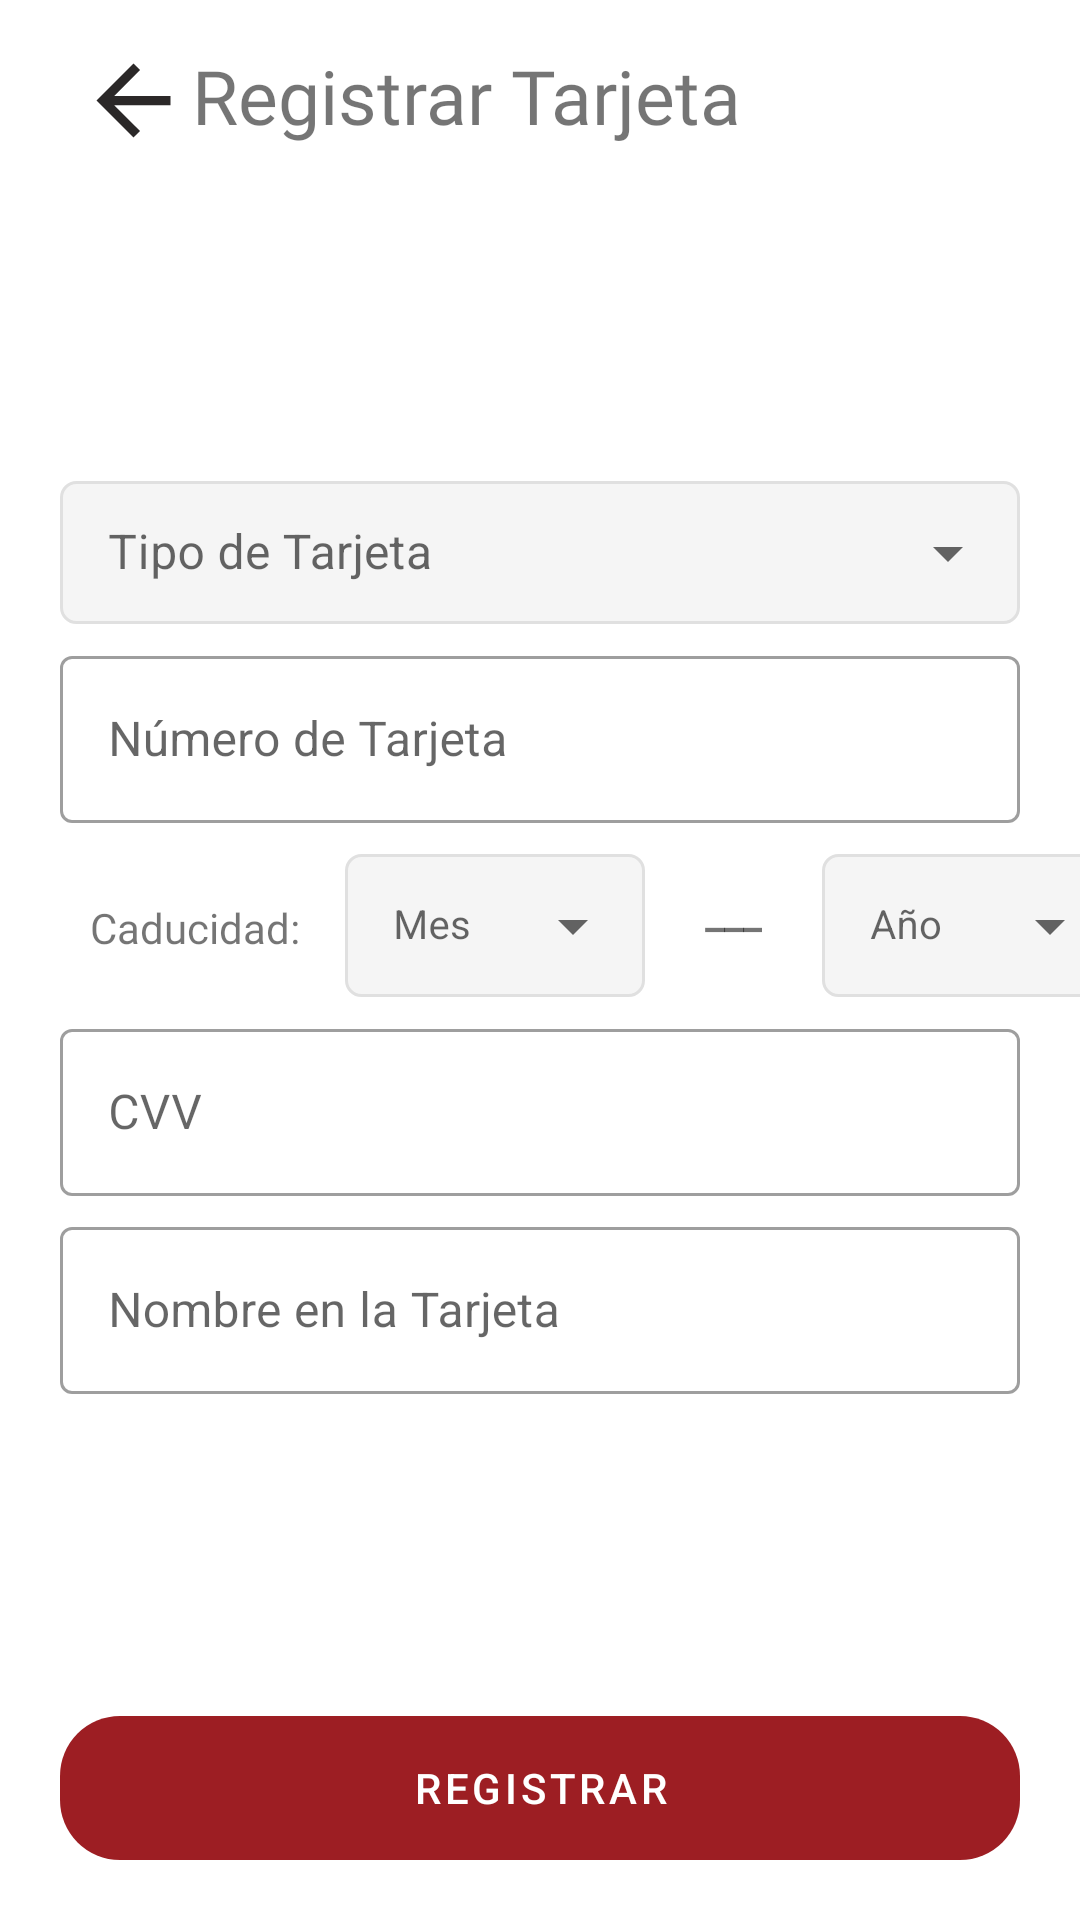

Icons on this 1080px x 1920px Android screen, each with its box as (x1, y1, x2, y2):
arrow back: (96, 63, 171, 138)
